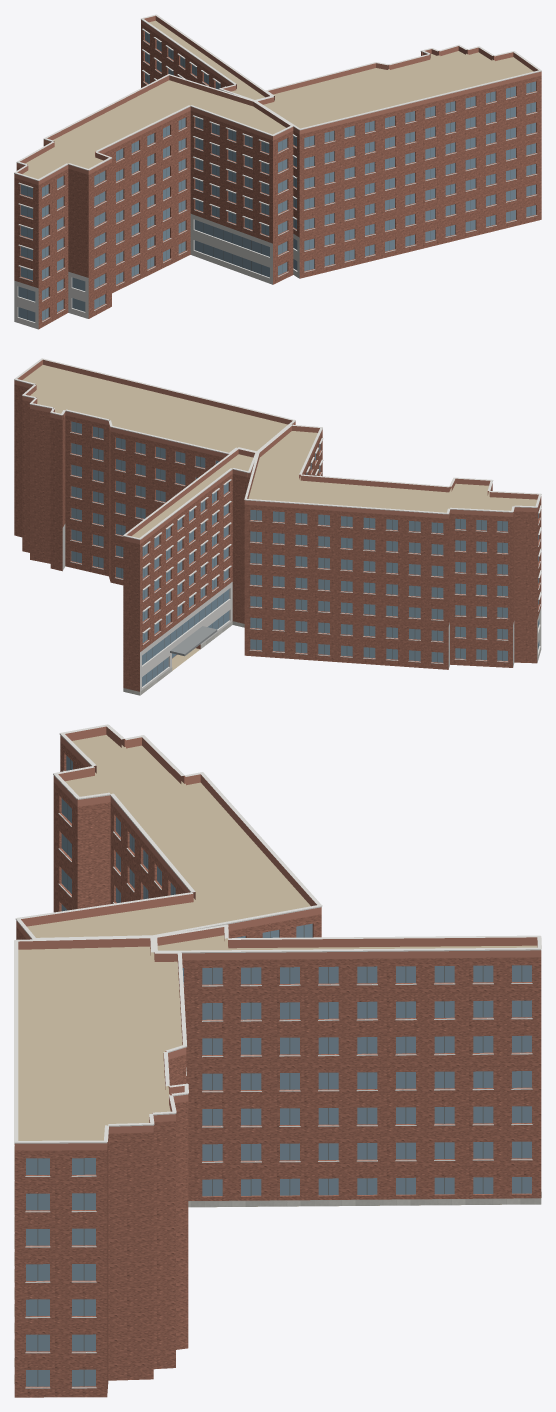
The picture shows the model from 3 angles, top to bottom: view 1: azimuth 30°, elevation 25°; view 2: azimuth 150°, elevation 25°; view 3: azimuth 270°, elevation 25°; orthographic projection. The views are drawn at different scales.
Parts seen in each view (by area): view 1: intlHouseNew__wall, intlHouseNew__glass, intlHouseNew__roof, intlHouseNew__trim, intlHouseNew__parapet, intlHouseNew__wall2, intlHouseNew__frame; view 2: intlHouseNew__wall, intlHouseNew__roof, intlHouseNew__glass, intlHouseNew__parapet, intlHouseNew__trim, intlHouseNew__wall2, intlHouseNew__frame, intlHouseNew__canopy, intlHouseNew__base; view 3: intlHouseNew__wall, intlHouseNew__roof, intlHouseNew__glass, intlHouseNew__parapet, intlHouseNew__trim, intlHouseNew__frame, intlHouseNew__base.
Part boxes in pixels (<box>): intlHouseNew__wall: <box>14,23,541,328</box>; intlHouseNew__glass: <box>18,32,535,321</box>; intlHouseNew__roof: <box>22,20,533,178</box>; intlHouseNew__trim: <box>14,14,541,321</box>; intlHouseNew__parapet: <box>14,15,541,185</box>; intlHouseNew__wall2: <box>14,214,299,329</box>; intlHouseNew__frame: <box>27,34,531,319</box>; intlHouseNew__wall: <box>14,384,541,691</box>; intlHouseNew__roof: <box>22,365,537,670</box>; intlHouseNew__glass: <box>71,421,539,686</box>; intlHouseNew__parapet: <box>14,359,541,544</box>; intlHouseNew__trim: <box>14,358,541,663</box>; intlHouseNew__wall2: <box>62,524,541,695</box>; intlHouseNew__frame: <box>76,423,502,683</box>; intlHouseNew__canopy: <box>170,626,217,656</box>; intlHouseNew__base: <box>123,621,244,695</box>; intlHouseNew__wall: <box>14,742,541,1397</box>; intlHouseNew__roof: <box>18,735,537,1207</box>; intlHouseNew__glass: <box>26,755,531,1386</box>; intlHouseNew__parapet: <box>14,726,541,1150</box>; intlHouseNew__trim: <box>14,724,541,1388</box>; intlHouseNew__frame: <box>37,759,522,1386</box>; intlHouseNew__base: <box>188,1192,541,1207</box>.
Bounding box in the file's own units: 86.47 × 24.62 × 46.12.
10 materials, 2 textured.
